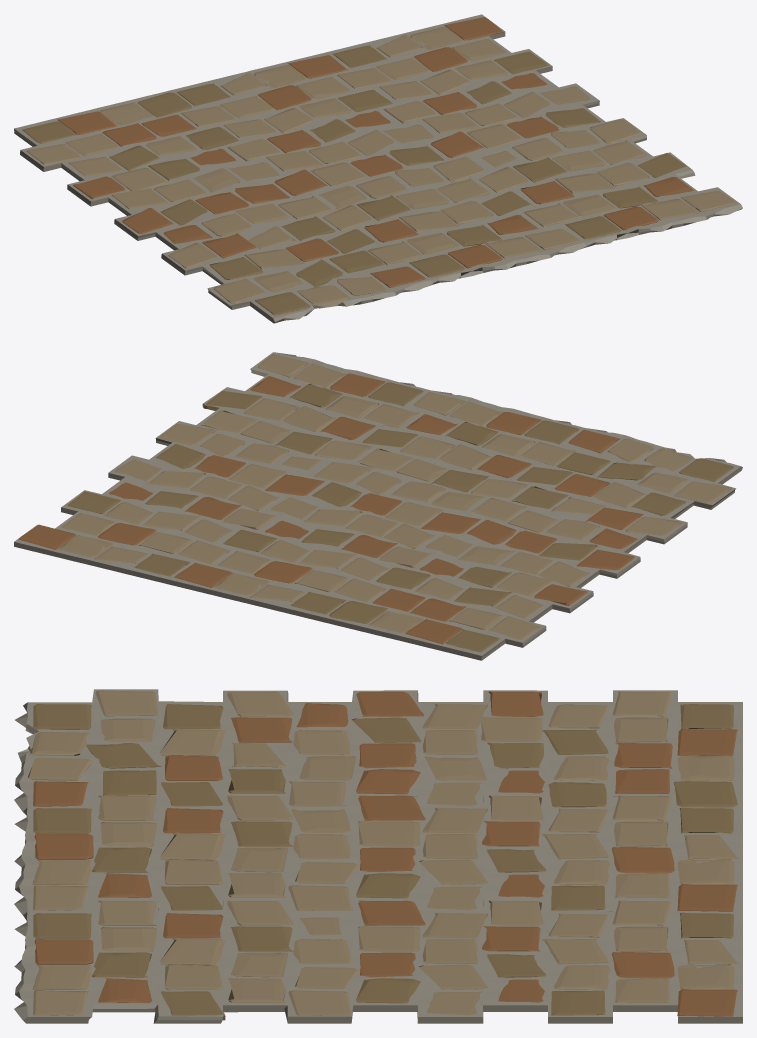
Rendered from cobblestones.fbx.
3 views of the same model, one above another, from view 1: azimuth 30°, elevation 25°; view 2: azimuth 150°, elevation 25°; view 3: azimuth 270°, elevation 25° (orthographic). The views are drawn at different scales.
Parts seen in each view (by area): view 1: Cobblestones; view 2: Cobblestones; view 3: Cobblestones.
Part boxes in pixels (left/top/right/bottom): Cobblestones: left=14, top=14, right=742, bottom=323; Cobblestones: left=14, top=352, right=742, bottom=660; Cobblestones: left=14, top=689, right=742, bottom=1023.
Bounding box in the file's own units: 1142 × 15.74 × 1074.
